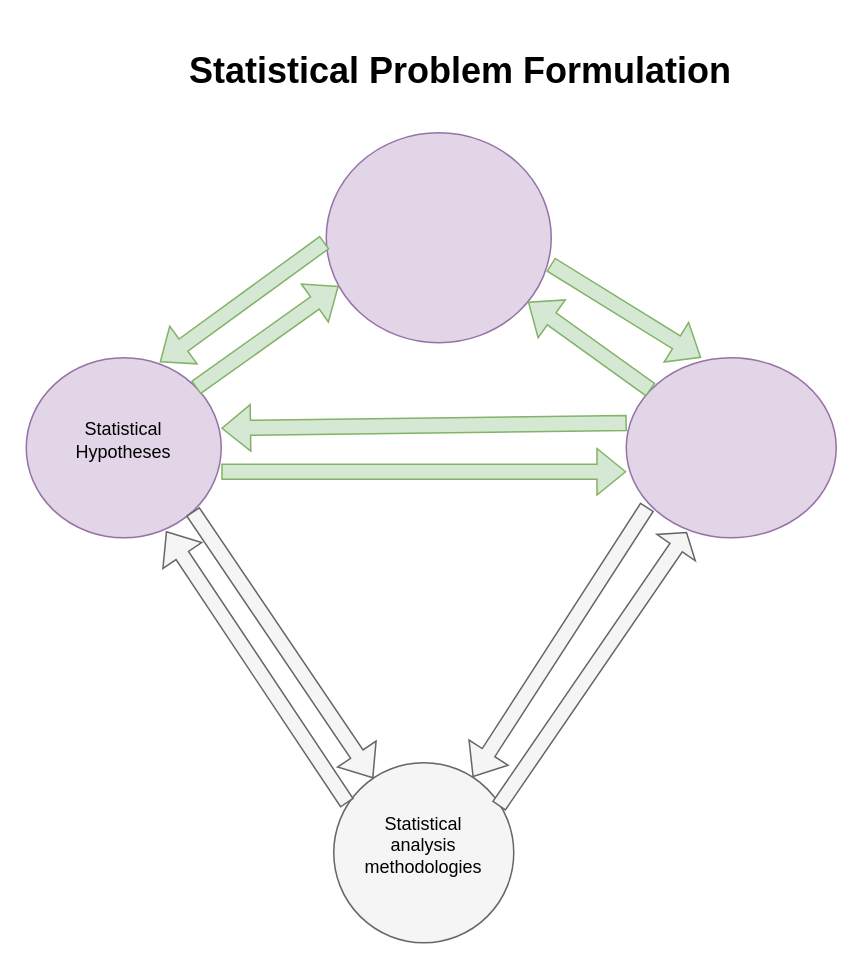
The diagram is 863 pixels wide and 969 high, and some of its shapes have lost their labels. The shapes that lost their labels are listed below. From the top down, each one's centre as x and y in pixels, then its label:
At point 438,237: "Research Question".
At point 730,447: "Study Design".
